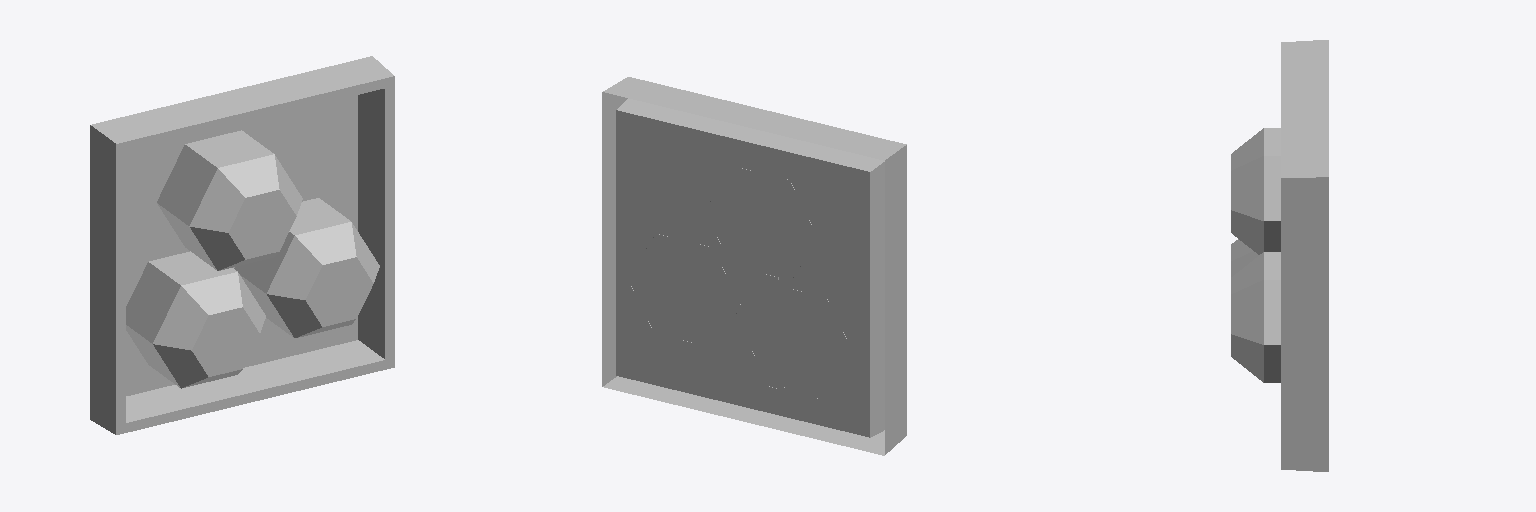
Rendered from town.obj.
3 views of the same model, side by side, from view 1: azimuth 30°, elevation 25°; view 2: azimuth 150°, elevation 25°; view 3: azimuth 270°, elevation 25° (orthographic).
Visible parts, largest first — view 1: Cylinder; view 2: Cylinder; view 3: Cylinder.
Boxes of the visible parts, <box> form: Cylinder: <box>90,56,394,434</box>; Cylinder: <box>602,77,906,455</box>; Cylinder: <box>1231,40,1328,471</box>.
Bounding box in the file's own units: 2 × 2 × 0.6048.